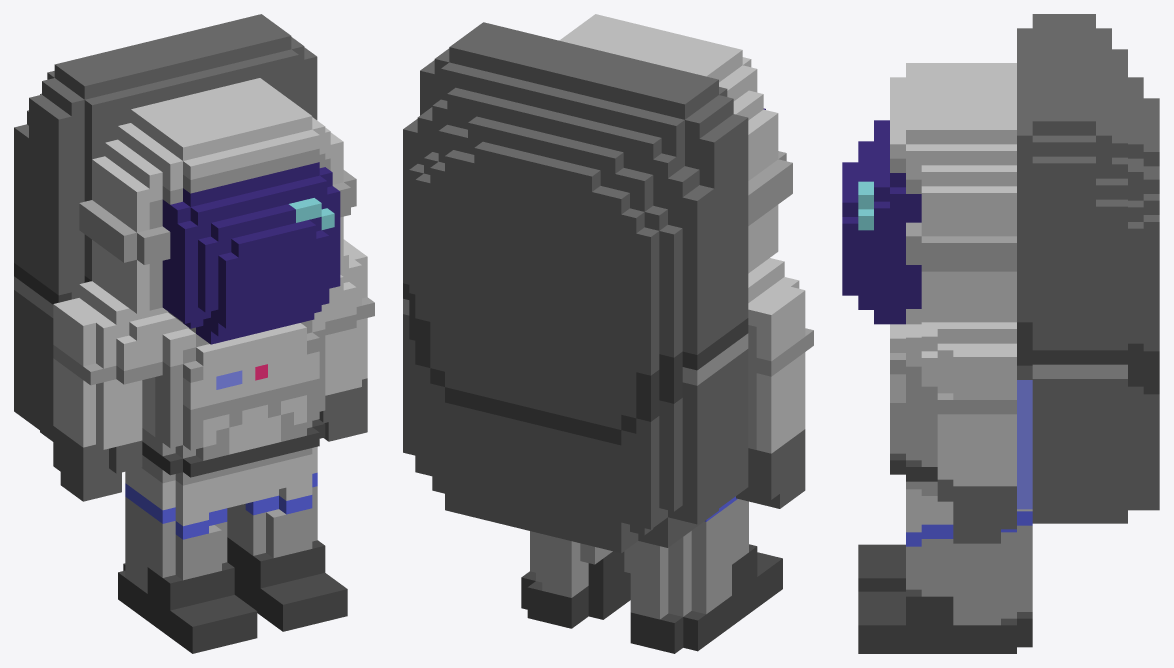
Rendered from astronaut.obj.
The picture shows the model from 3 angles, left to right: view 1: azimuth 30°, elevation 25°; view 2: azimuth 150°, elevation 25°; view 3: azimuth 270°, elevation 25°; orthographic projection. The views are drawn at different scales.
Bounding box in the file's own units: 2.2 × 3.8 × 2.
Materials: 1 (1 with a texture image).
